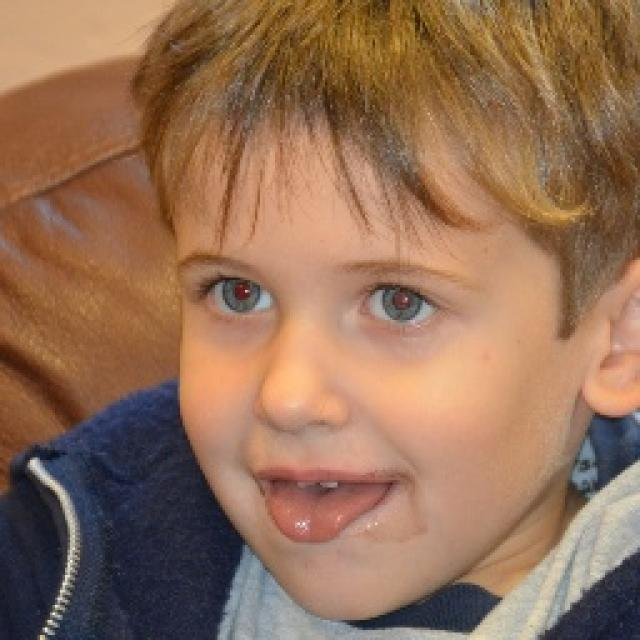earlobe: (584, 361, 632, 419)
eye: (359, 284, 441, 328), (200, 280, 272, 316)
nose: (258, 419, 354, 456)
wholeear: (582, 252, 640, 418)
